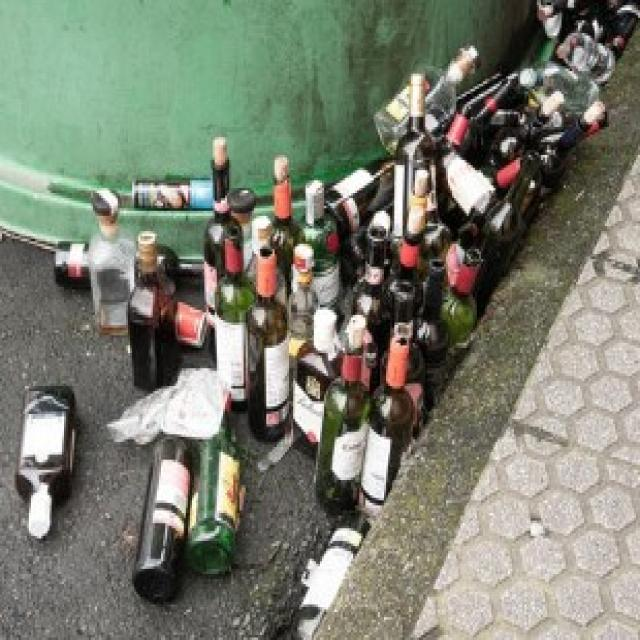electronic: (0, 0, 607, 599)
